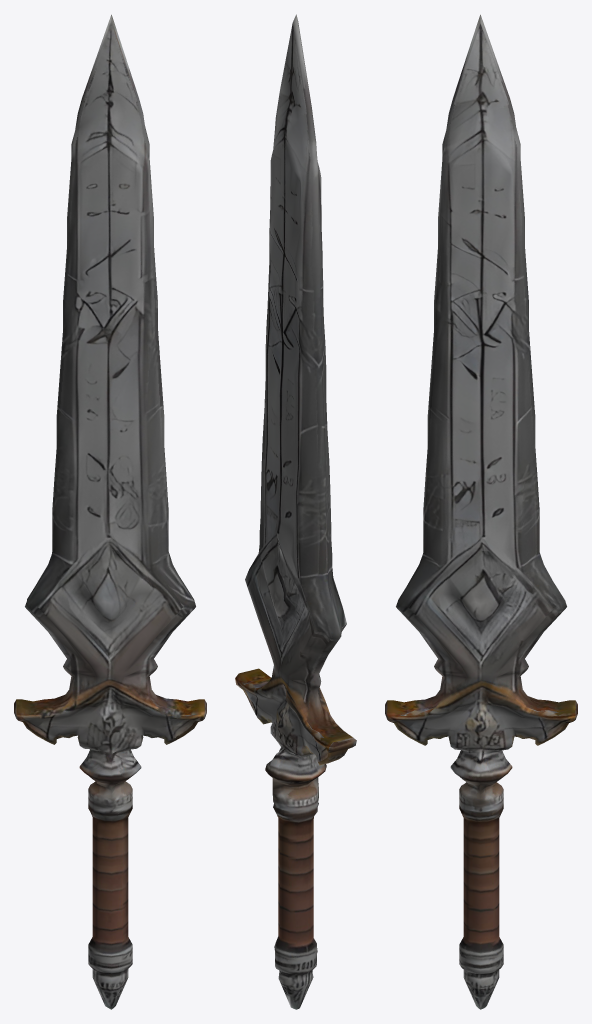
The model's file is sword.glb.
The picture shows the model from 3 angles, left to right: view 1: azimuth 90°, elevation 25°; view 2: azimuth 210°, elevation 25°; view 3: azimuth 270°, elevation 25°; orthographic projection.
Parts seen in each view (by area): view 1: tripo_node_6be39630-b82c-4027-b855-f65c38869006; view 2: tripo_node_6be39630-b82c-4027-b855-f65c38869006; view 3: tripo_node_6be39630-b82c-4027-b855-f65c38869006.
Boxes of the visible parts, x1,y1,x2,y2 form: tripo_node_6be39630-b82c-4027-b855-f65c38869006: (14,14,206,1009); tripo_node_6be39630-b82c-4027-b855-f65c38869006: (235,14,356,1009); tripo_node_6be39630-b82c-4027-b855-f65c38869006: (385,14,577,1009).
Bounding box in the file's own units: 0.053 × 0.948 × 0.1662.
Materials: 1 (1 with a texture image).
